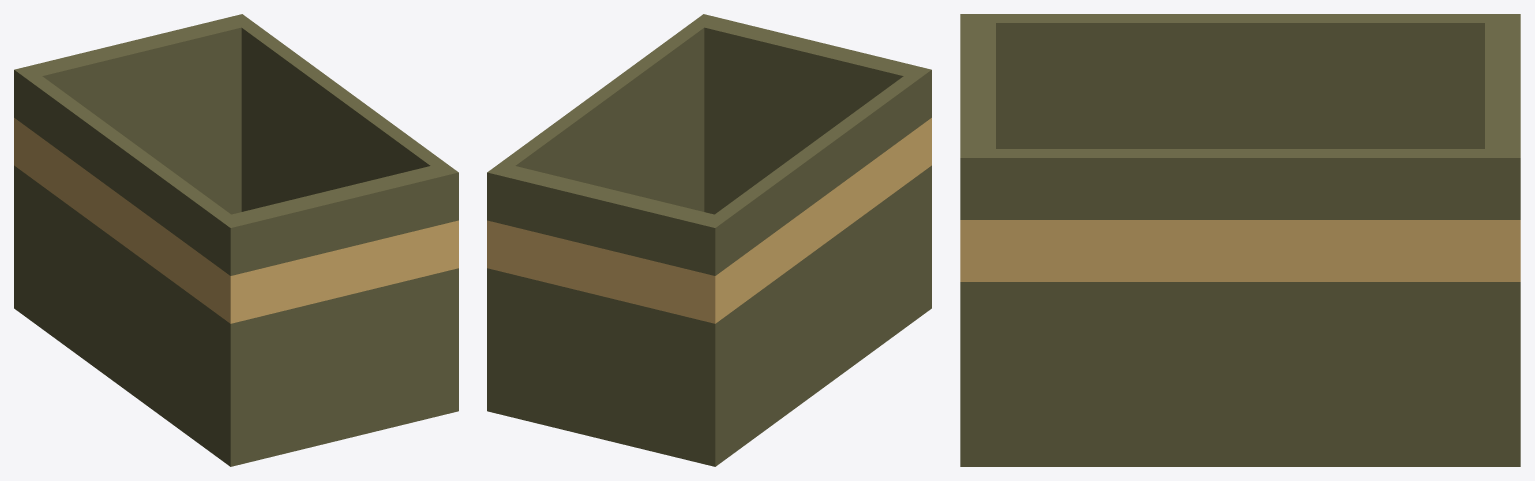
File: emptybox.fbx
The picture shows the model from 3 angles, left to right: view 1: azimuth 30°, elevation 25°; view 2: azimuth 150°, elevation 25°; view 3: azimuth 270°, elevation 25°; orthographic projection. The views are drawn at different scales.
Parts seen in each view (by area): view 1: Cube; view 2: Cube; view 3: Cube.
Boxes of the visible parts, bbox=[...] form: Cube: bbox=[14, 14, 458, 466]; Cube: bbox=[487, 14, 931, 466]; Cube: bbox=[960, 14, 1520, 466].
Size of the model in its own units: 312 by 312 by 512.
